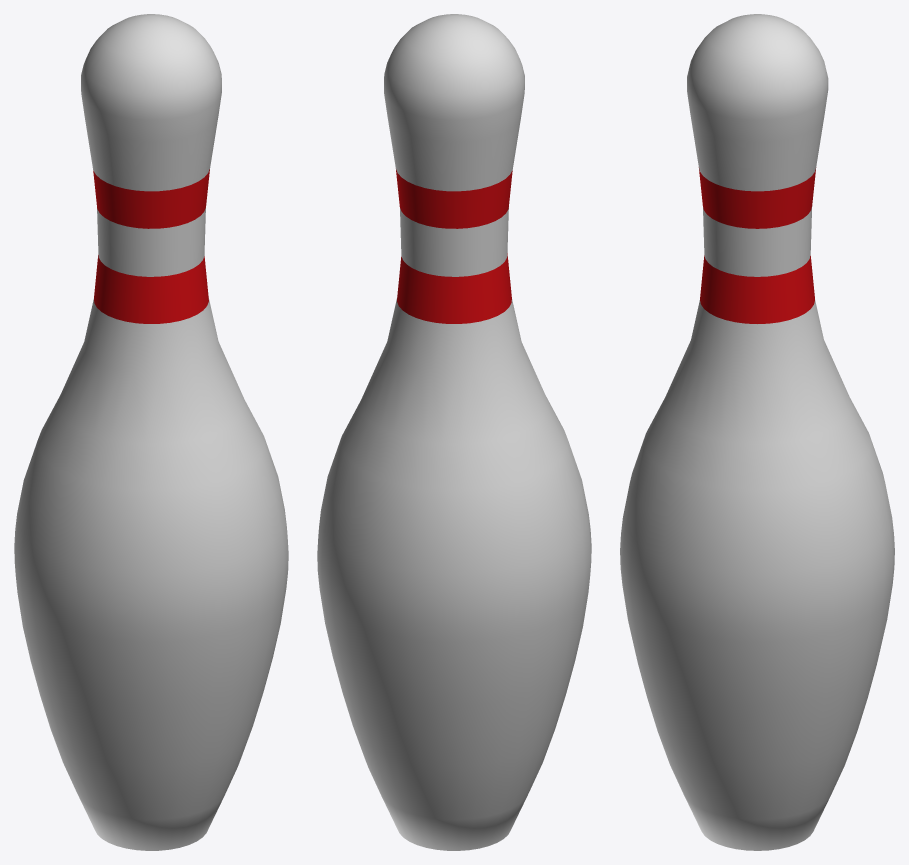
File: bowlling ball.fbx
3 renders of one model, left to right at view 1: azimuth 30°, elevation 25°; view 2: azimuth 150°, elevation 25°; view 3: azimuth 270°, elevation 25°, orthographic.
Visible parts, largest first — view 1: s1.001, s1; view 2: s1.001, s1; view 3: s1.001, s1.
Part boxes in pixels (box(x1,y1,x2,y2)): s1.001: box(14, 14, 288, 850); s1: box(93, 169, 209, 323); s1.001: box(317, 14, 591, 850); s1: box(396, 169, 512, 323); s1.001: box(620, 14, 894, 850); s1: box(698, 167, 816, 323).
Size of the model in its own units: 9.69 by 31.33 by 9.68.
